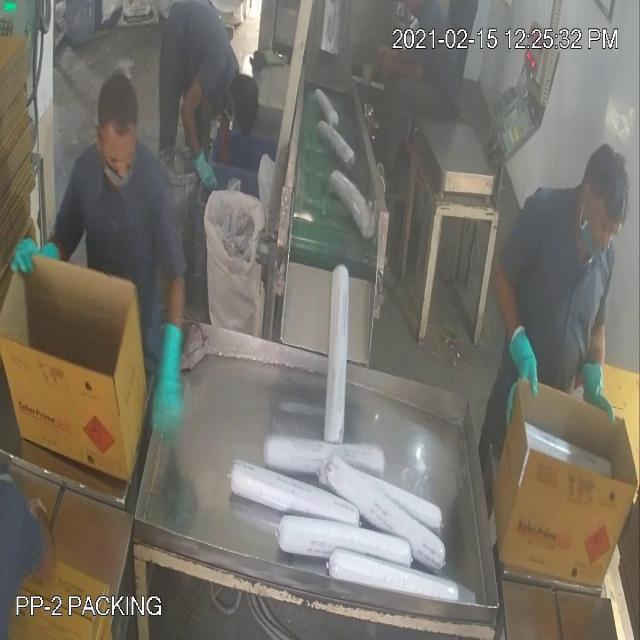Gloves: (35, 50, 525, 529)
